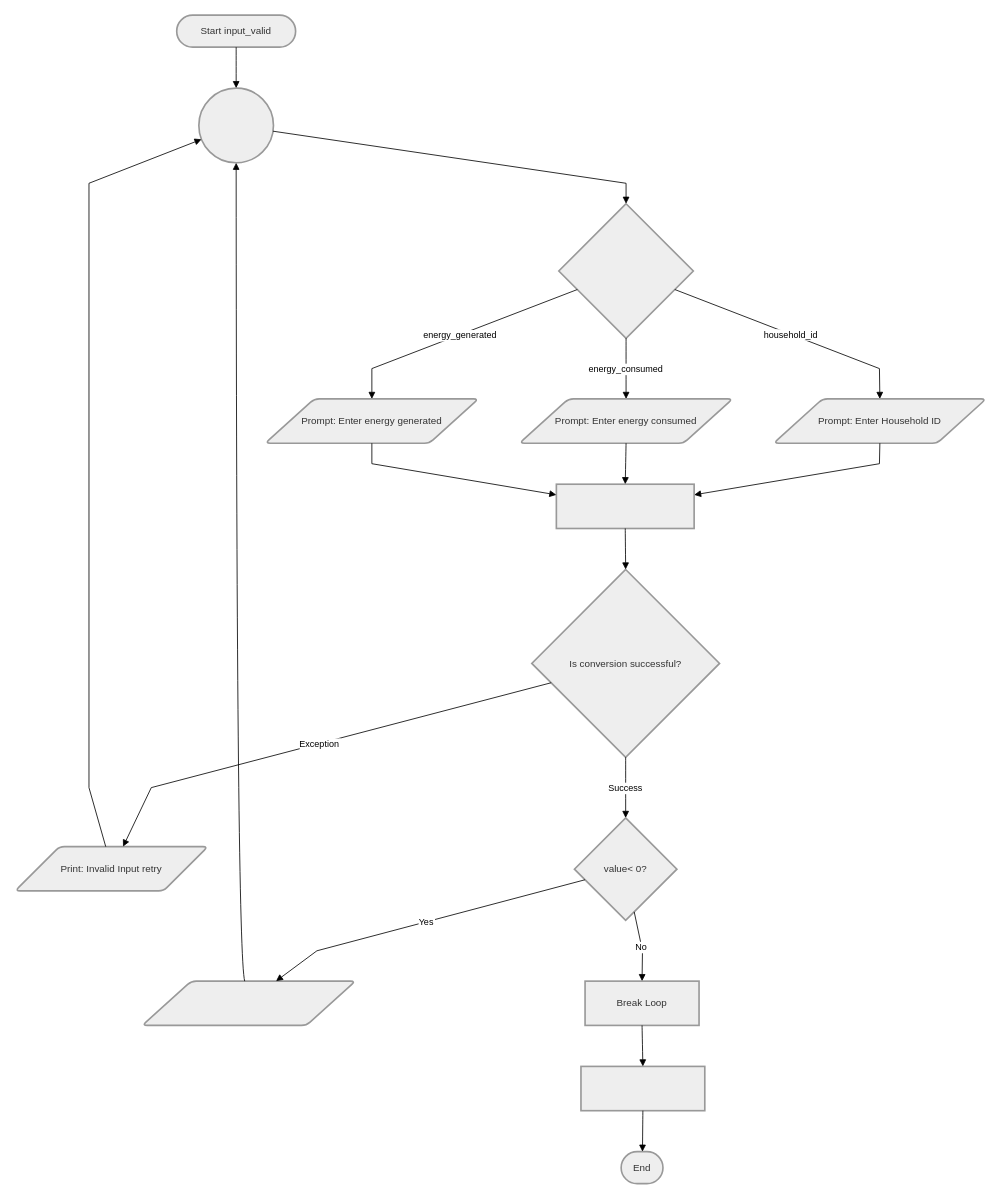
Some shapes in this 1000 by 1198 pixel diagram are drawn without their labels. Each missing label, with the centre of its shape:
input_type == ?: [626,271]
Print: invalid input enter a positive value: [248,1003]
Return value: [642,1088]
Try: value = int: [625,506]
While True: [236,125]
